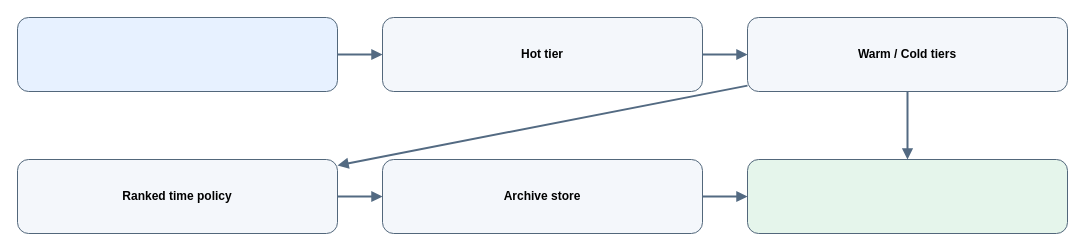
The diagram is 1085 pixels wide and 251 high, and some of its shapes have lost their labels. Each missing label, with the centre of its shape:
Event ingest: point 177,54
Purge at space / expiry threshold: point 907,196
